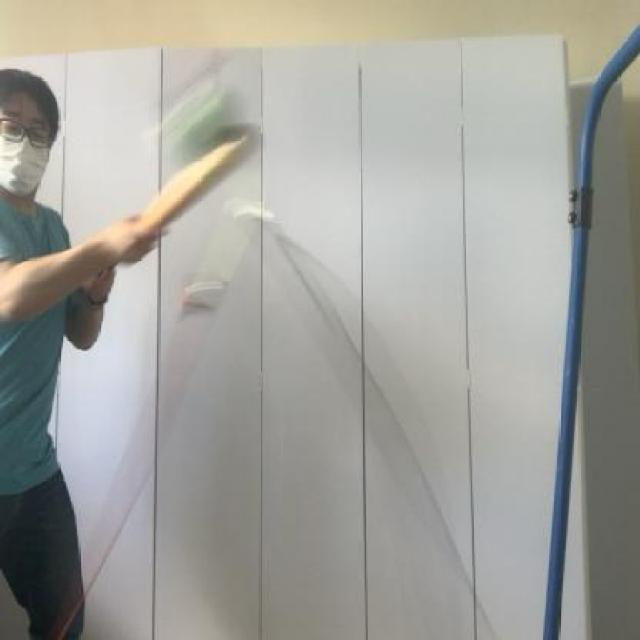baseball: (175, 59, 240, 155)
